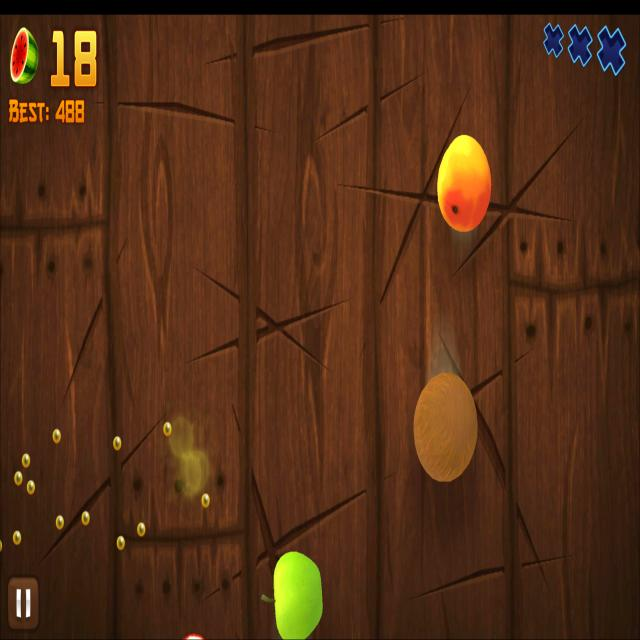fruit: (413, 372, 479, 482), (436, 133, 492, 234), (274, 548, 324, 638)
